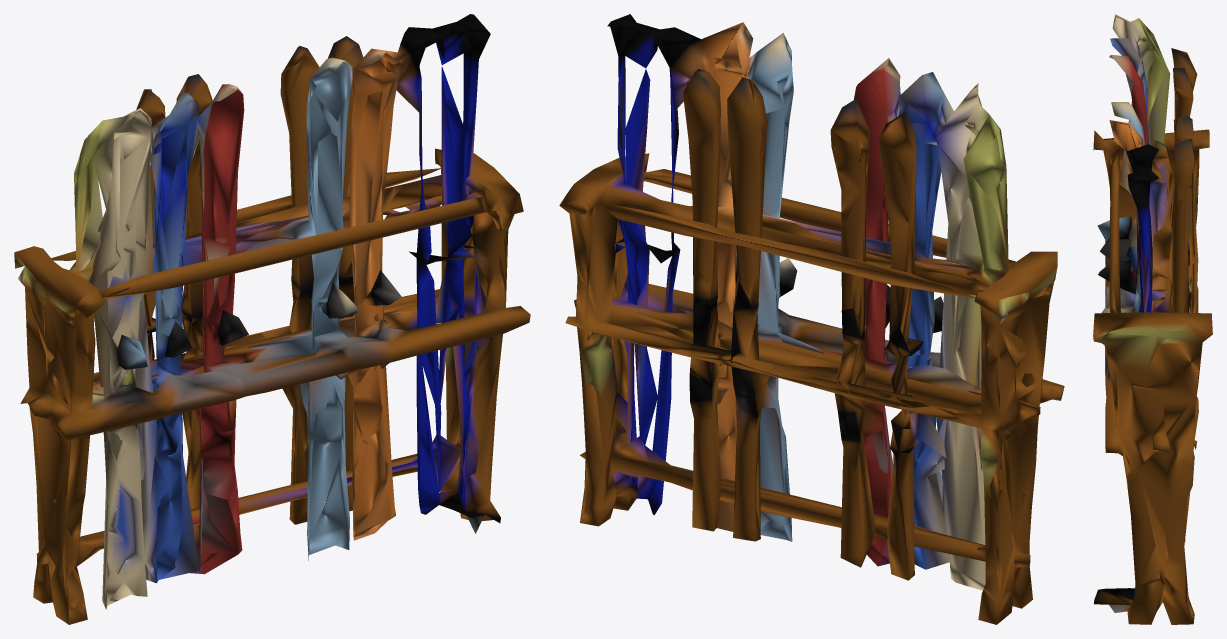
Rendered from gen3d-ski-rack-lod0.glb.
3 renders of one model, left to right at view 1: azimuth 30°, elevation 25°; view 2: azimuth 150°, elevation 25°; view 3: azimuth 270°, elevation 25°, orthographic. The views are drawn at different scales.
Visible parts, largest first — view 1: part_0; view 2: part_0; view 3: part_0.
Part boxes in pixels (x1,y1,x2,y2): part_0: [14, 14, 530, 624]; part_0: [559, 14, 1064, 624]; part_0: [1093, 14, 1212, 624].
Bounding box in the file's own units: 0.9666 × 0.998 × 0.239.
